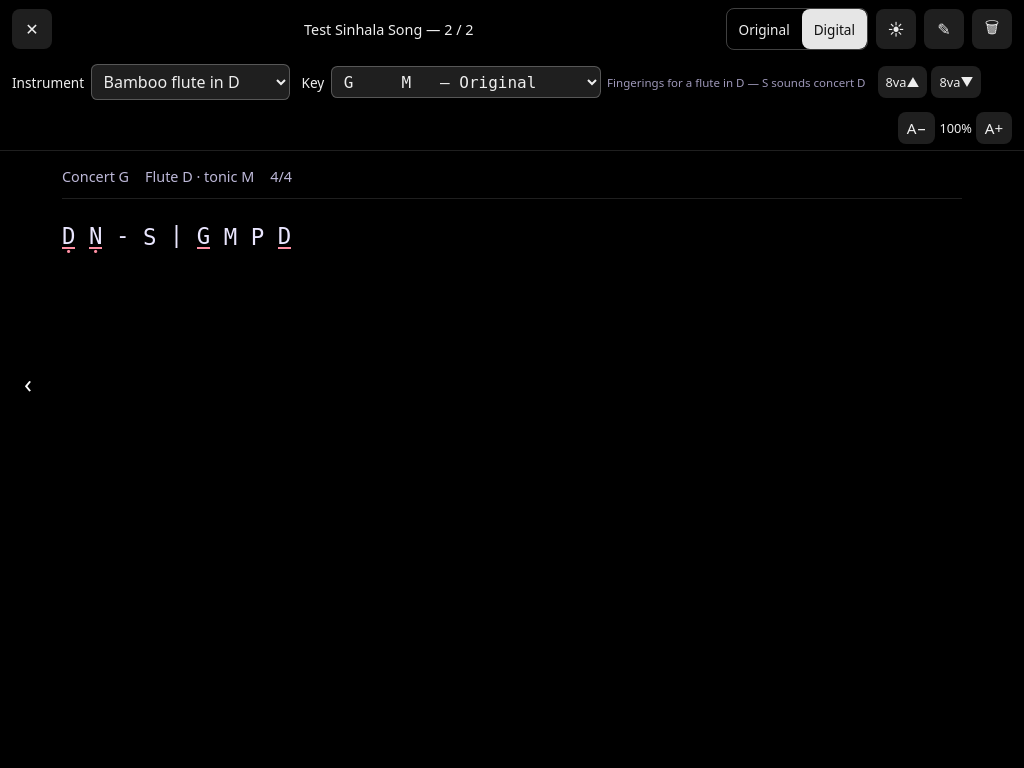
Test: App › keeps the instrument across a page change — you do not put the flute down
Check: the text "Flute D · tonic M" is shown, box top-left (145, 167), bottom-right (254, 186)
What coordinates should you click on to do the following:
click the button named "Previous page"
I would click on:
 (28, 384)
Its box is top-left (8, 364), bottom-right (48, 404).
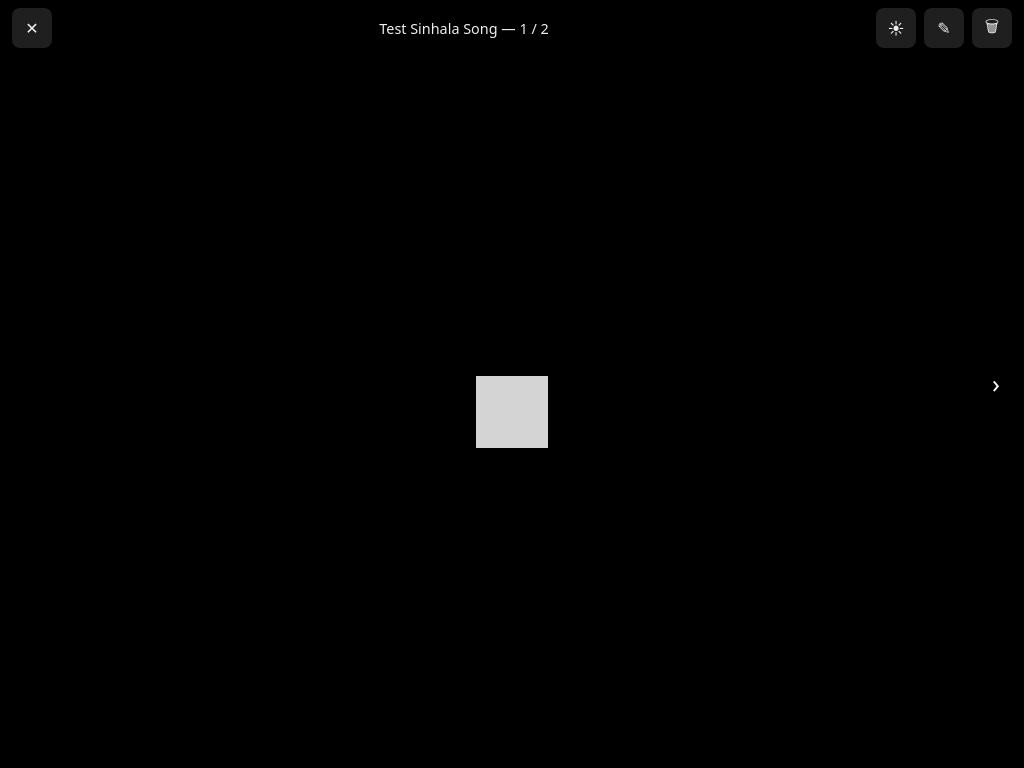
Check: the text "Test Sinhala Song — 1 / 2" is shown, box top-left (379, 18), bottom-right (549, 38)
What coordinates should you click on to do the following:
click the button named "Next page"
I would click on:
 (996, 384)
Its box is top-left (976, 364), bottom-right (1016, 404).
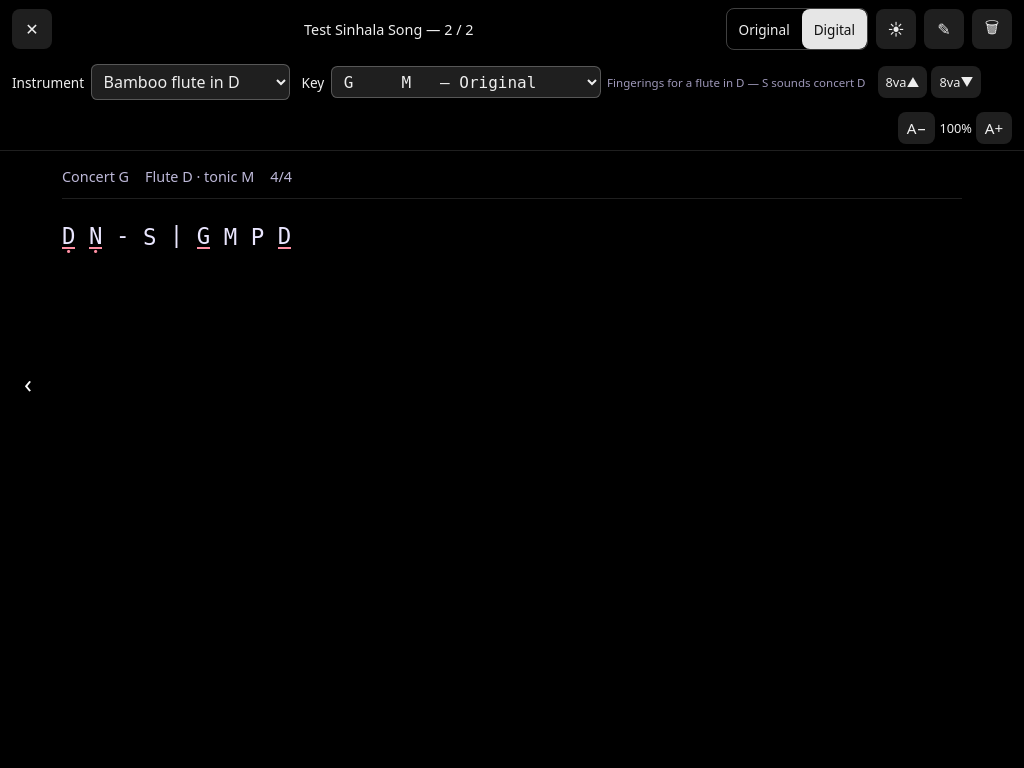
Check: the text "Flute D · tonic M" is shown, box top-left (145, 167), bottom-right (254, 186)
